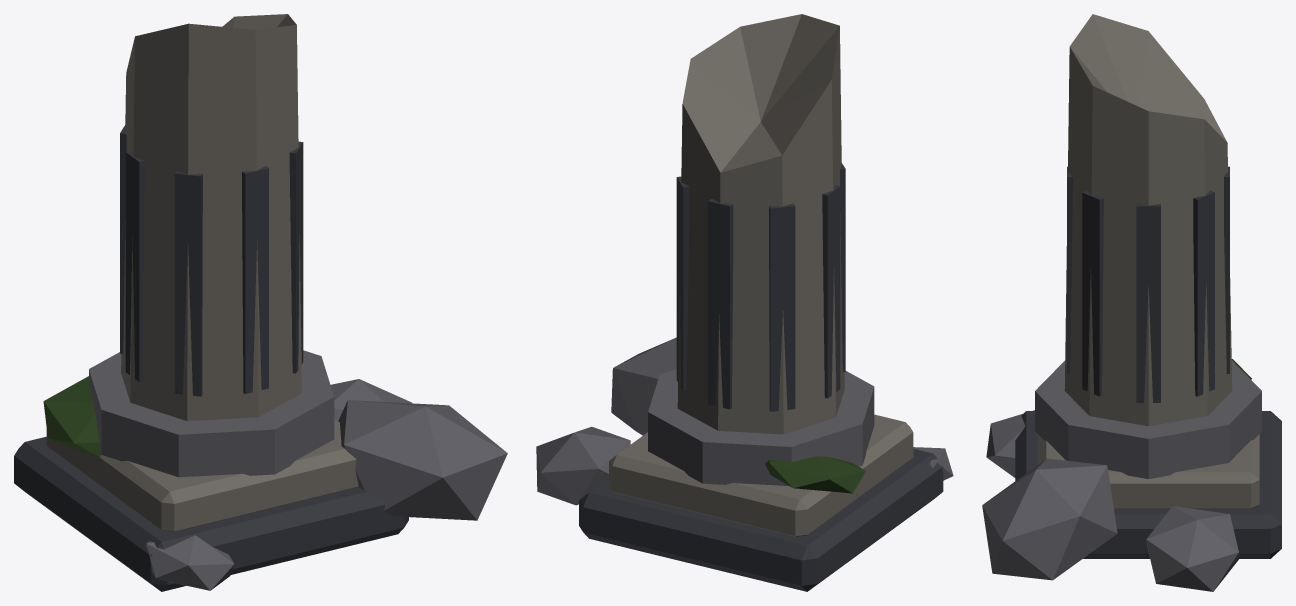
File: Ruined_Pillar.glb
3 views of the same model, side by side, from view 1: azimuth 30°, elevation 25°; view 2: azimuth 150°, elevation 25°; view 3: azimuth 270°, elevation 25° (orthographic). The views are drawn at different scales.
Parts seen in each view (by area): view 1: Ruined_Pillar; view 2: Ruined_Pillar; view 3: Ruined_Pillar.
Boxes of the visible parts, <box> form: Ruined_Pillar: <box>14,14,507,591</box>; Ruined_Pillar: <box>536,14,953,591</box>; Ruined_Pillar: <box>982,14,1281,591</box>.
Size of the model in its own units: 1.48 by 2.11 by 1.21.
